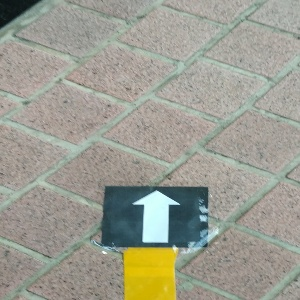straight: (104, 186, 207, 247)
